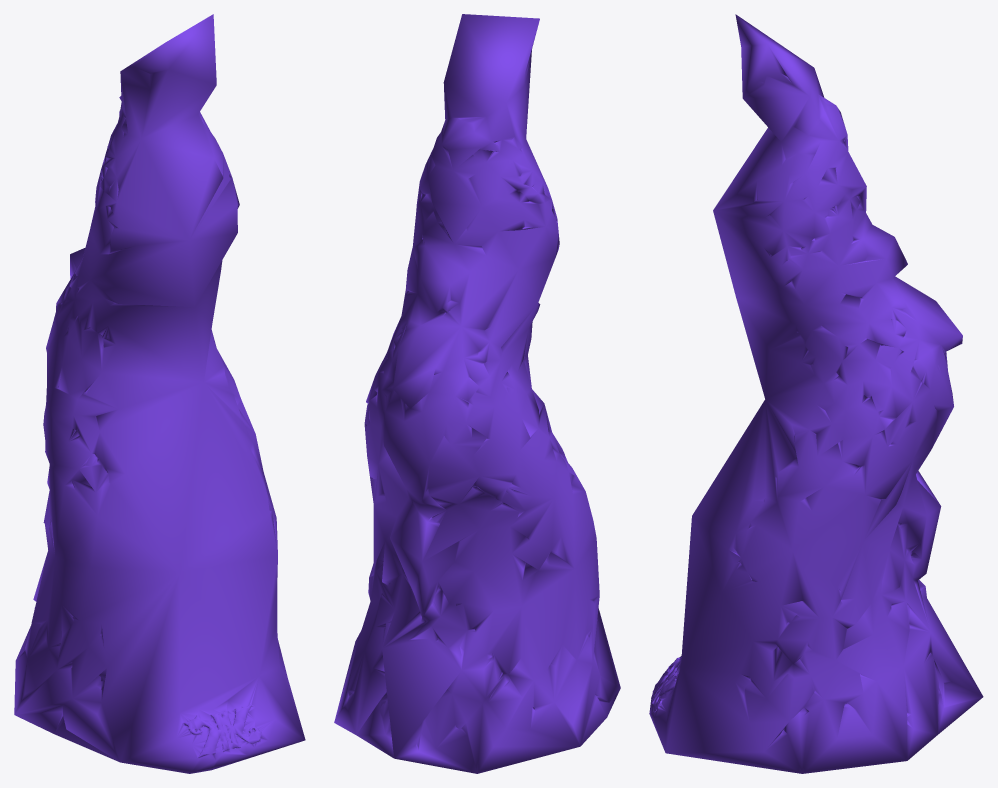
The model's file is large-flat-ar.glb.
The picture shows the model from 3 angles, left to right: view 1: azimuth 30°, elevation 25°; view 2: azimuth 150°, elevation 25°; view 3: azimuth 270°, elevation 25°; orthographic projection. The views are drawn at different scales.
Bounding box in the file's own units: 0.11 × 0.2935 × 0.1288.
